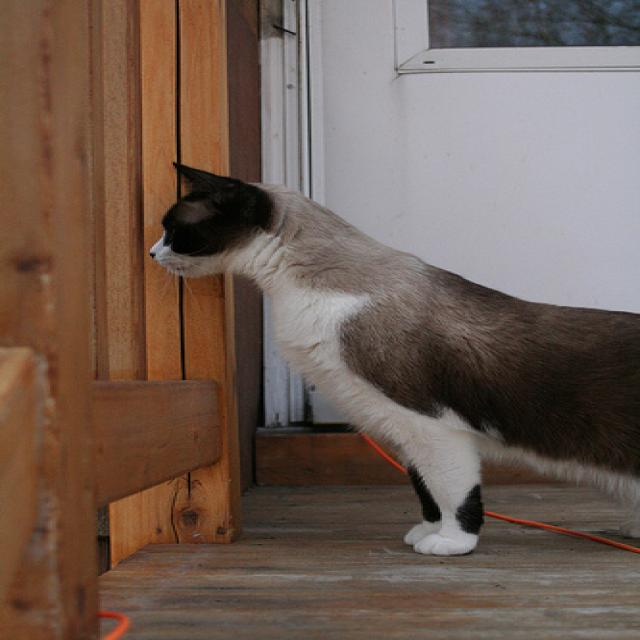cat: (143, 165, 639, 556)
